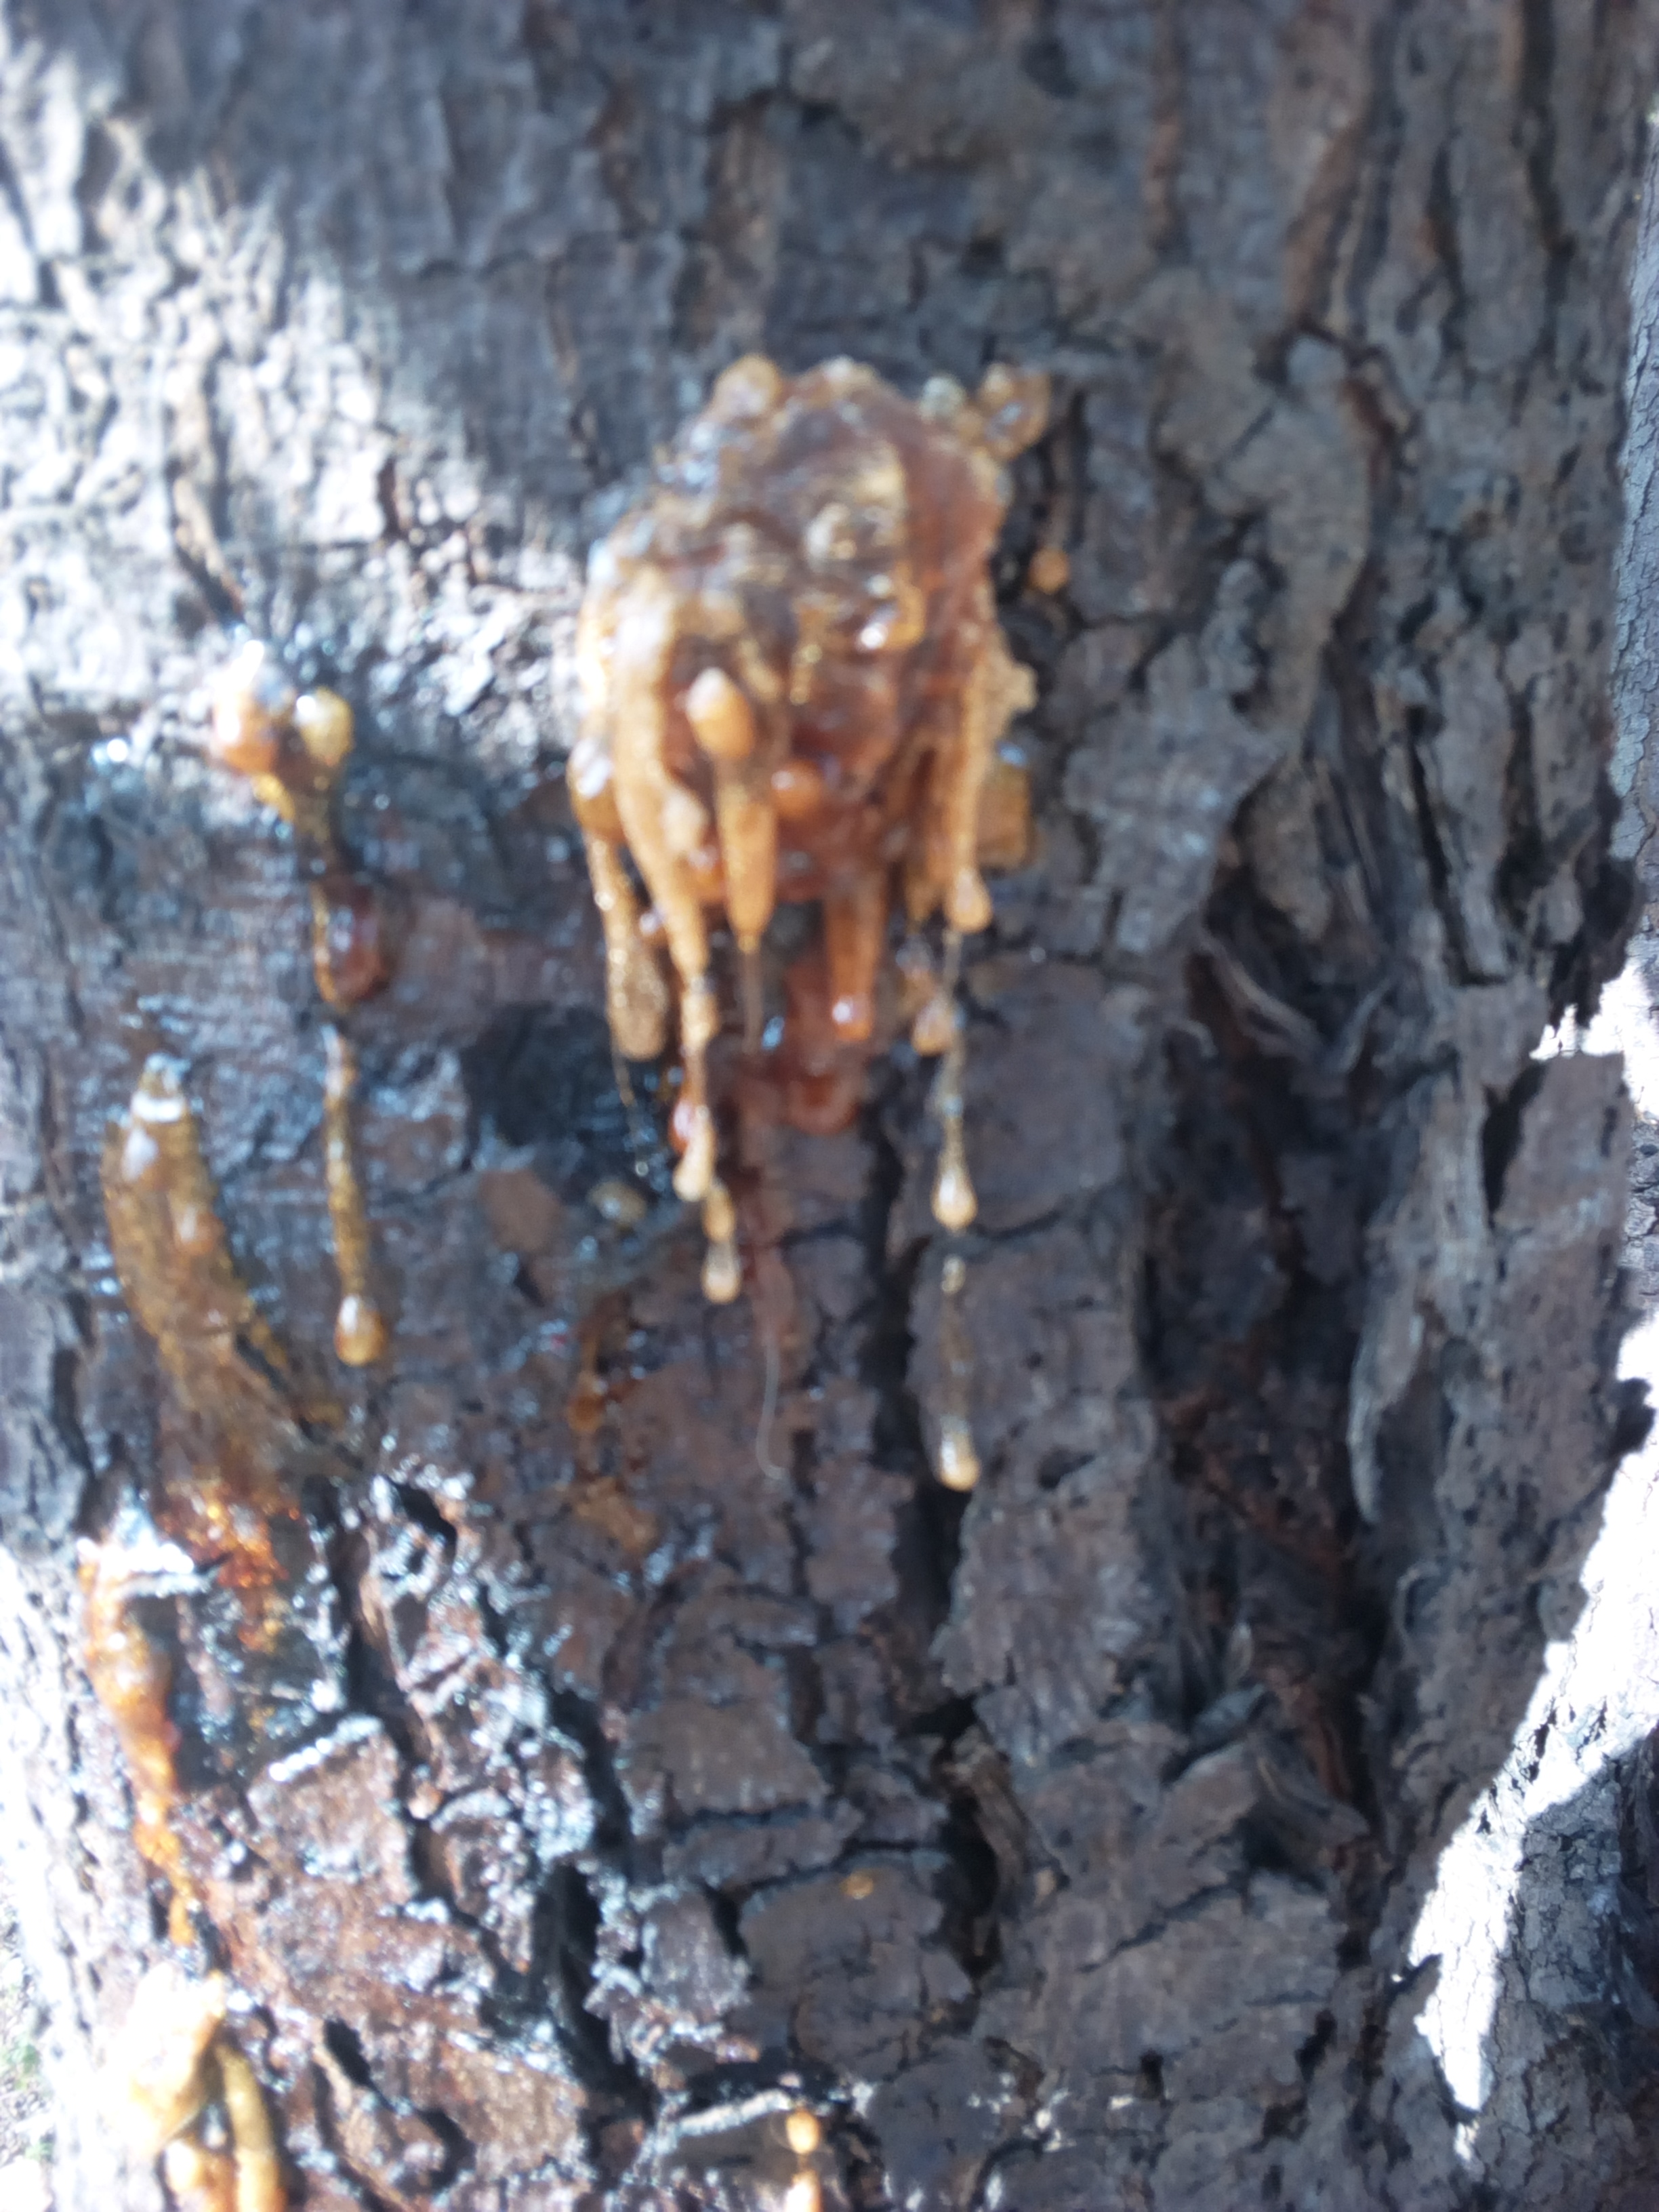Gommose: (561, 401, 1026, 1252), (213, 665, 464, 1378), (105, 1099, 310, 1632)
